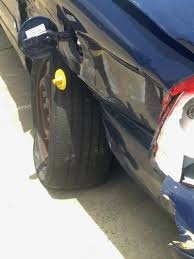Broken-glass: (152, 79, 194, 186)
Dent: (76, 33, 145, 119)
